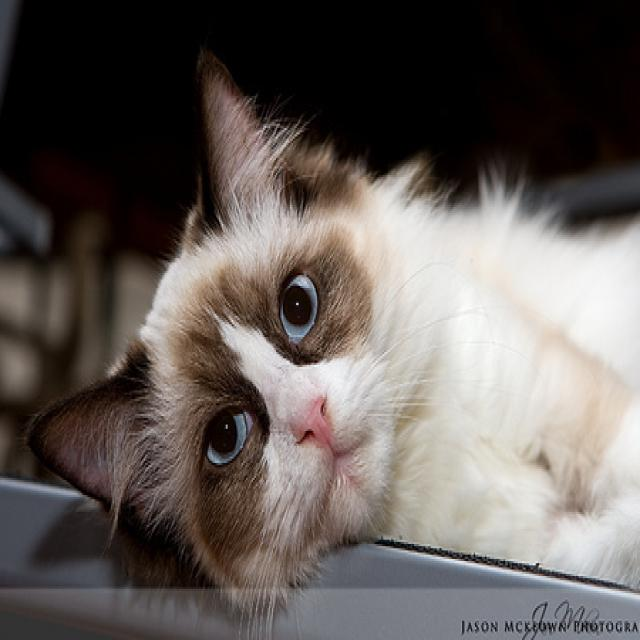Ragdoll: (21, 34, 640, 619)
